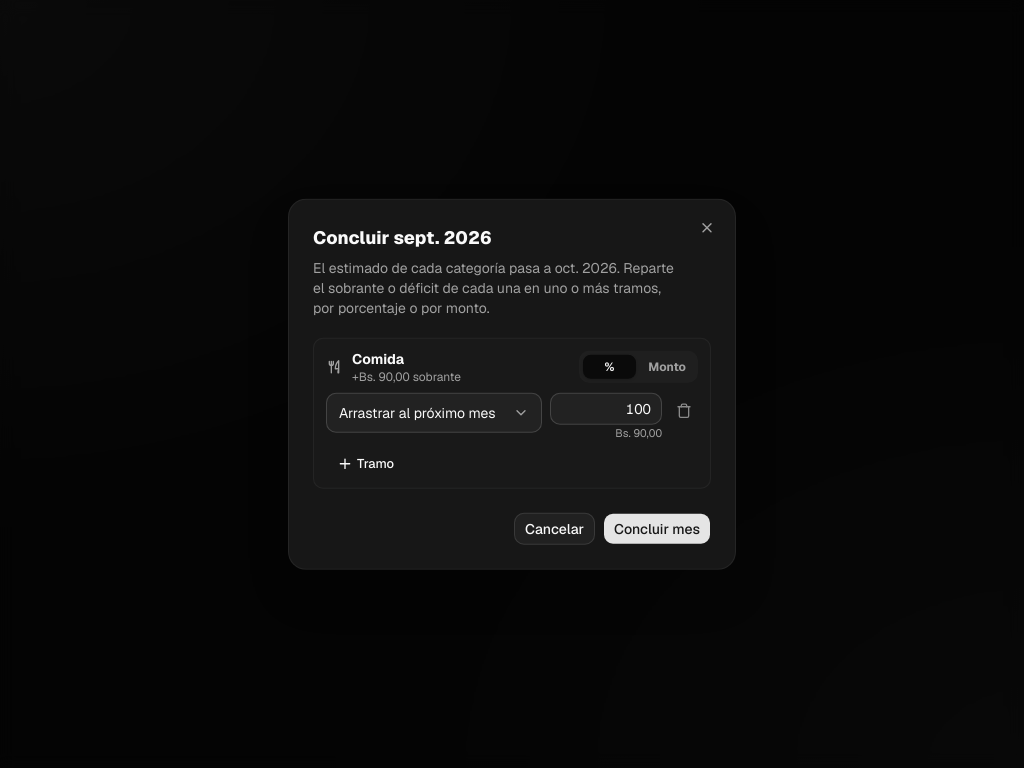
Test: ConcludeMonthDialog — reparto del cierre › un tramo agregado con todo repartido nace vacío y pide una cantidad
Click the button with aria-label "Agregar tramo a Comida" at coordinates (366, 463), box [326,449,405,477]
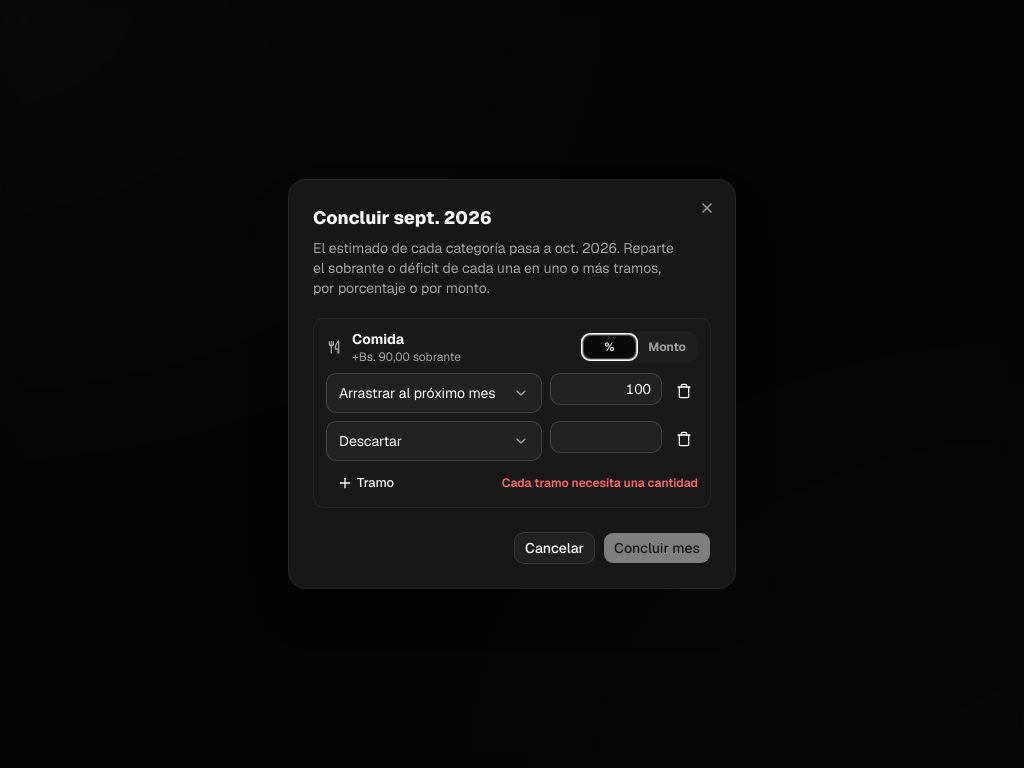
Expected: the text "Cada tramo necesita una cantidad" is shown, [502,475,698,491]
Expected: the button "Concluir mes" is disabled, [603,532,711,564]
